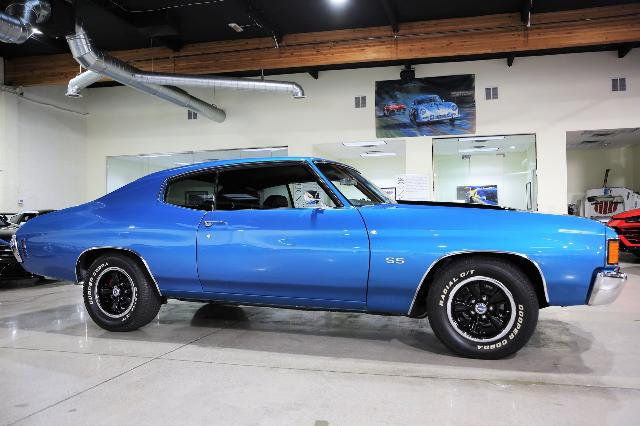chevelle-1972: (14, 157, 626, 359)
